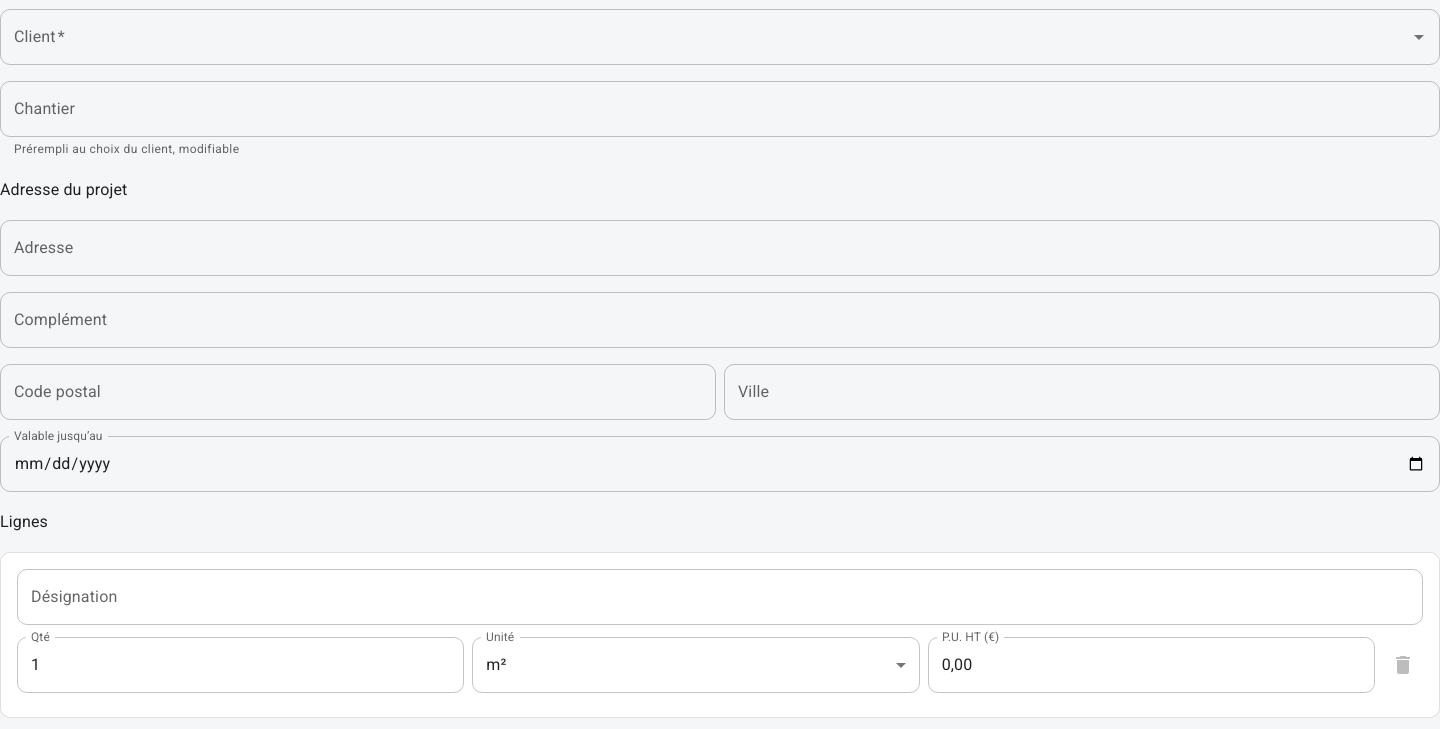
it: DocumentEditPage › calcule un total avec virgule en quantité et point en prix
This screenshot has width=1440, height=729.
Type "Enduit" into the dropdown labelled "Désignation" at [705, 597], box x1=26 y1=578 x2=1384 y2=616
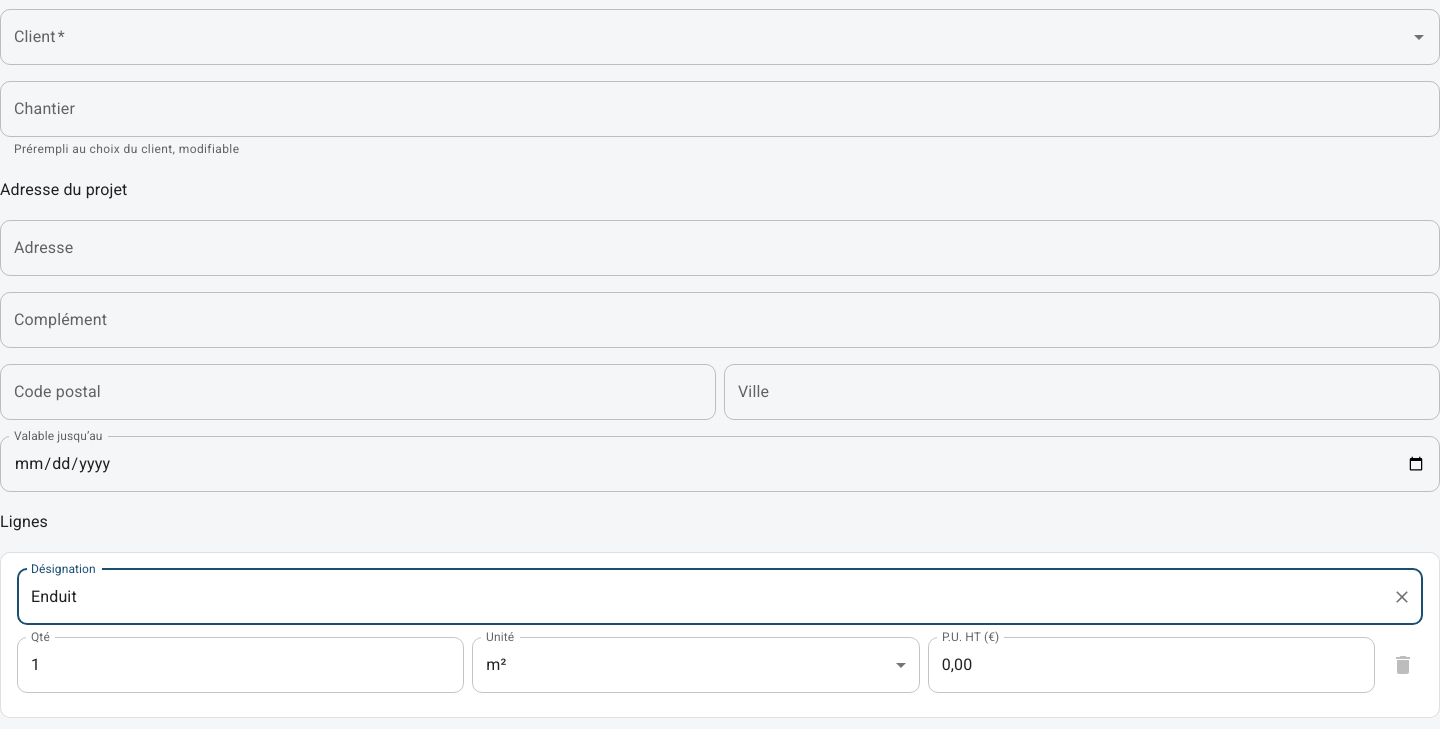
Replace the text in the field labelled "Qté" with "2,5" at [241, 665], box x1=17 y1=637 x2=464 y2=693
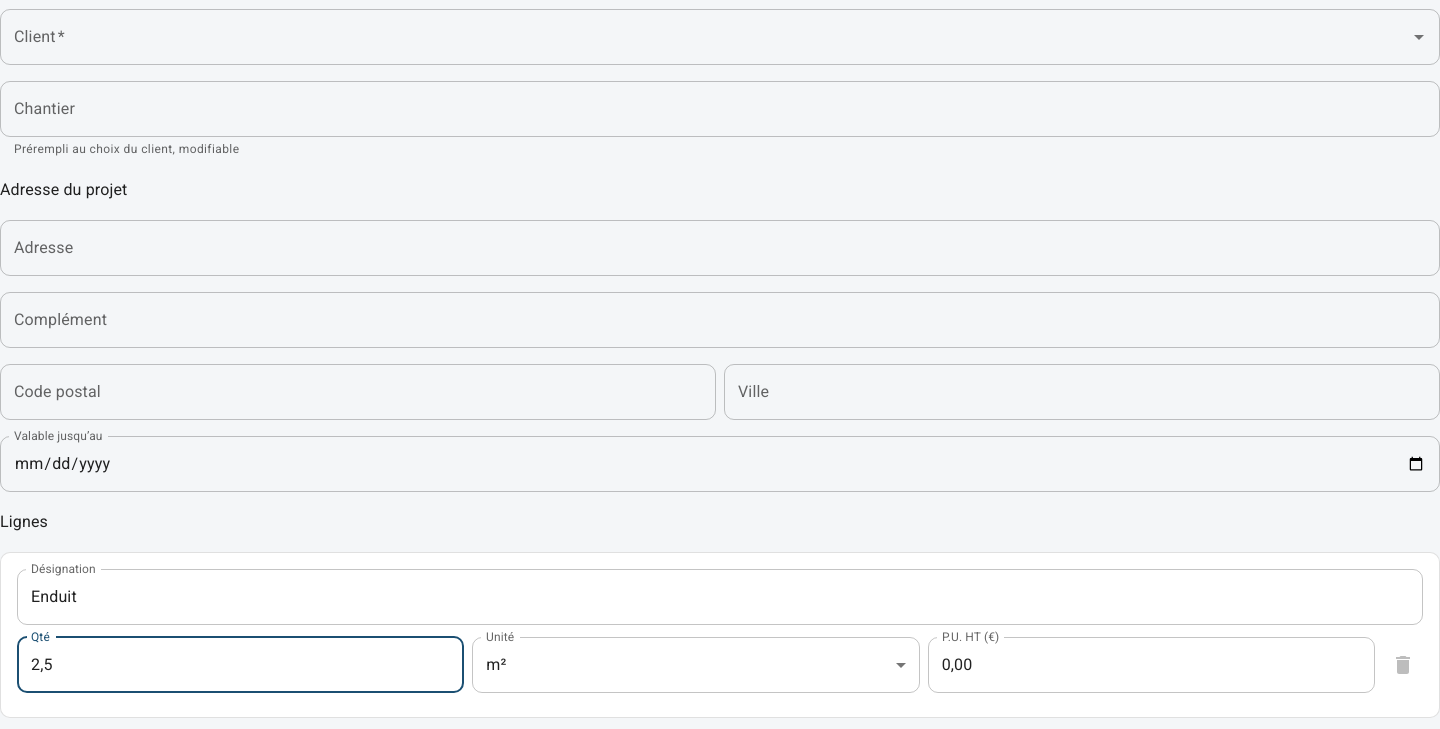
Clear the field labelled "P.U. HT (€)" at [1151, 665], box x1=928 y1=637 x2=1375 y2=693
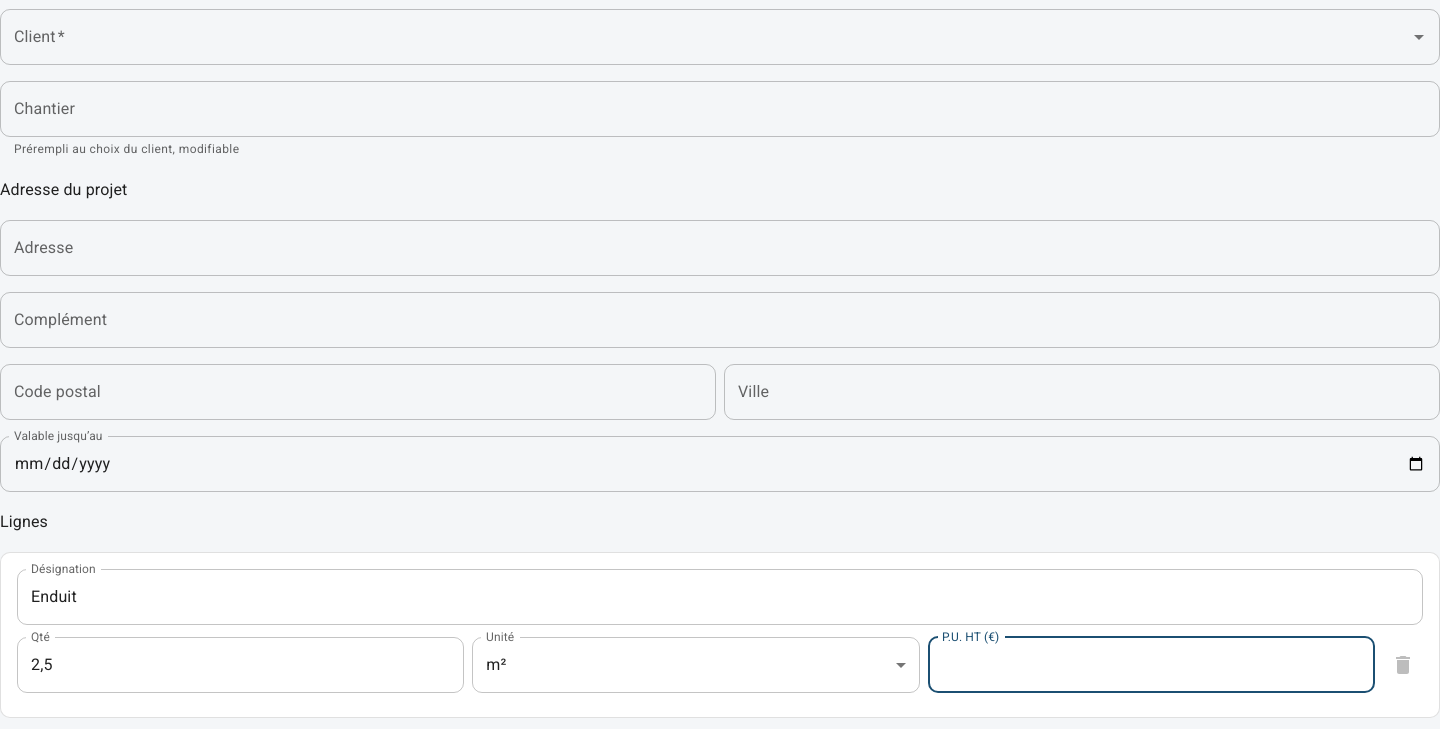
Type keys "10.00"
(page scrolled)
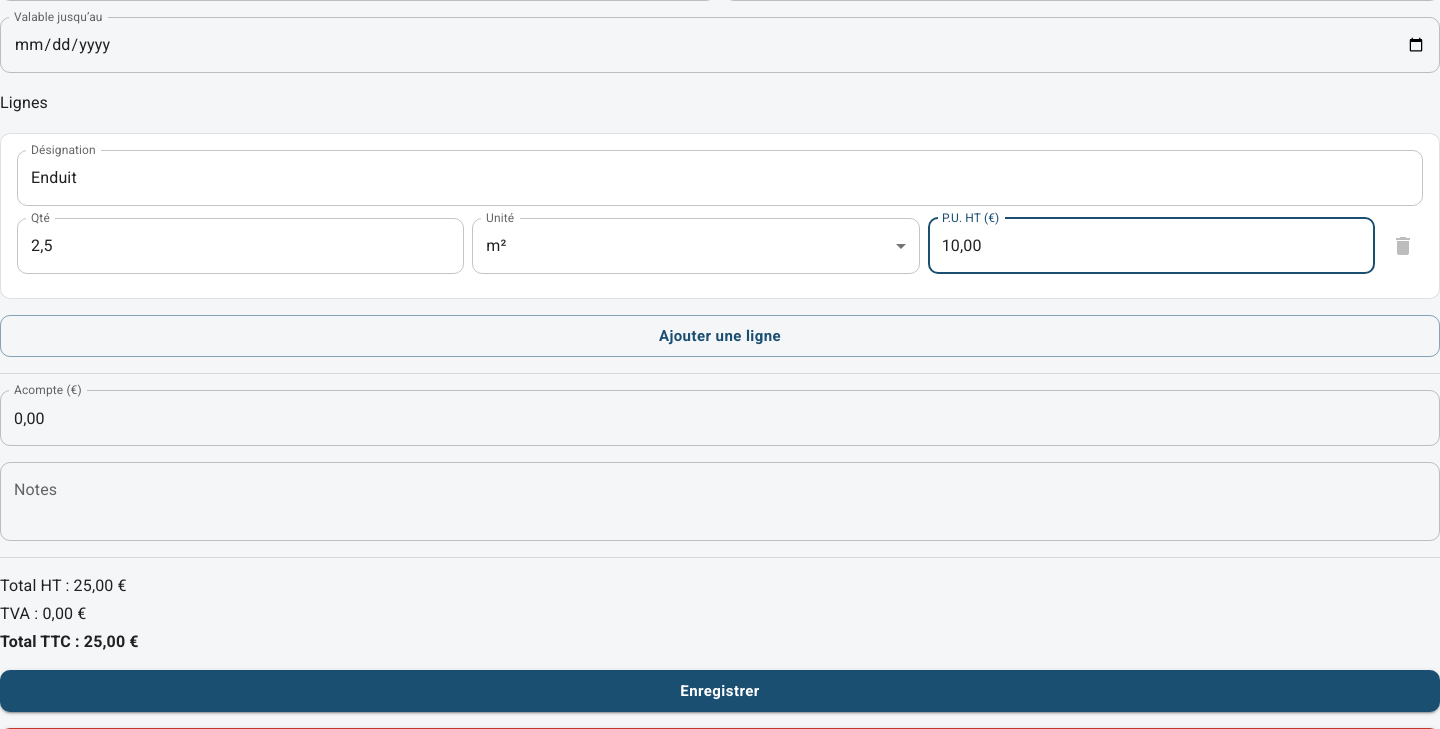
expect the field labelled "P.U. HT (€)" holds "10,00": met, box x1=928 y1=218 x2=1375 y2=274
expect the text "Total HT : 25,00 €" is shown: met, box x1=0 y1=576 x2=127 y2=595
